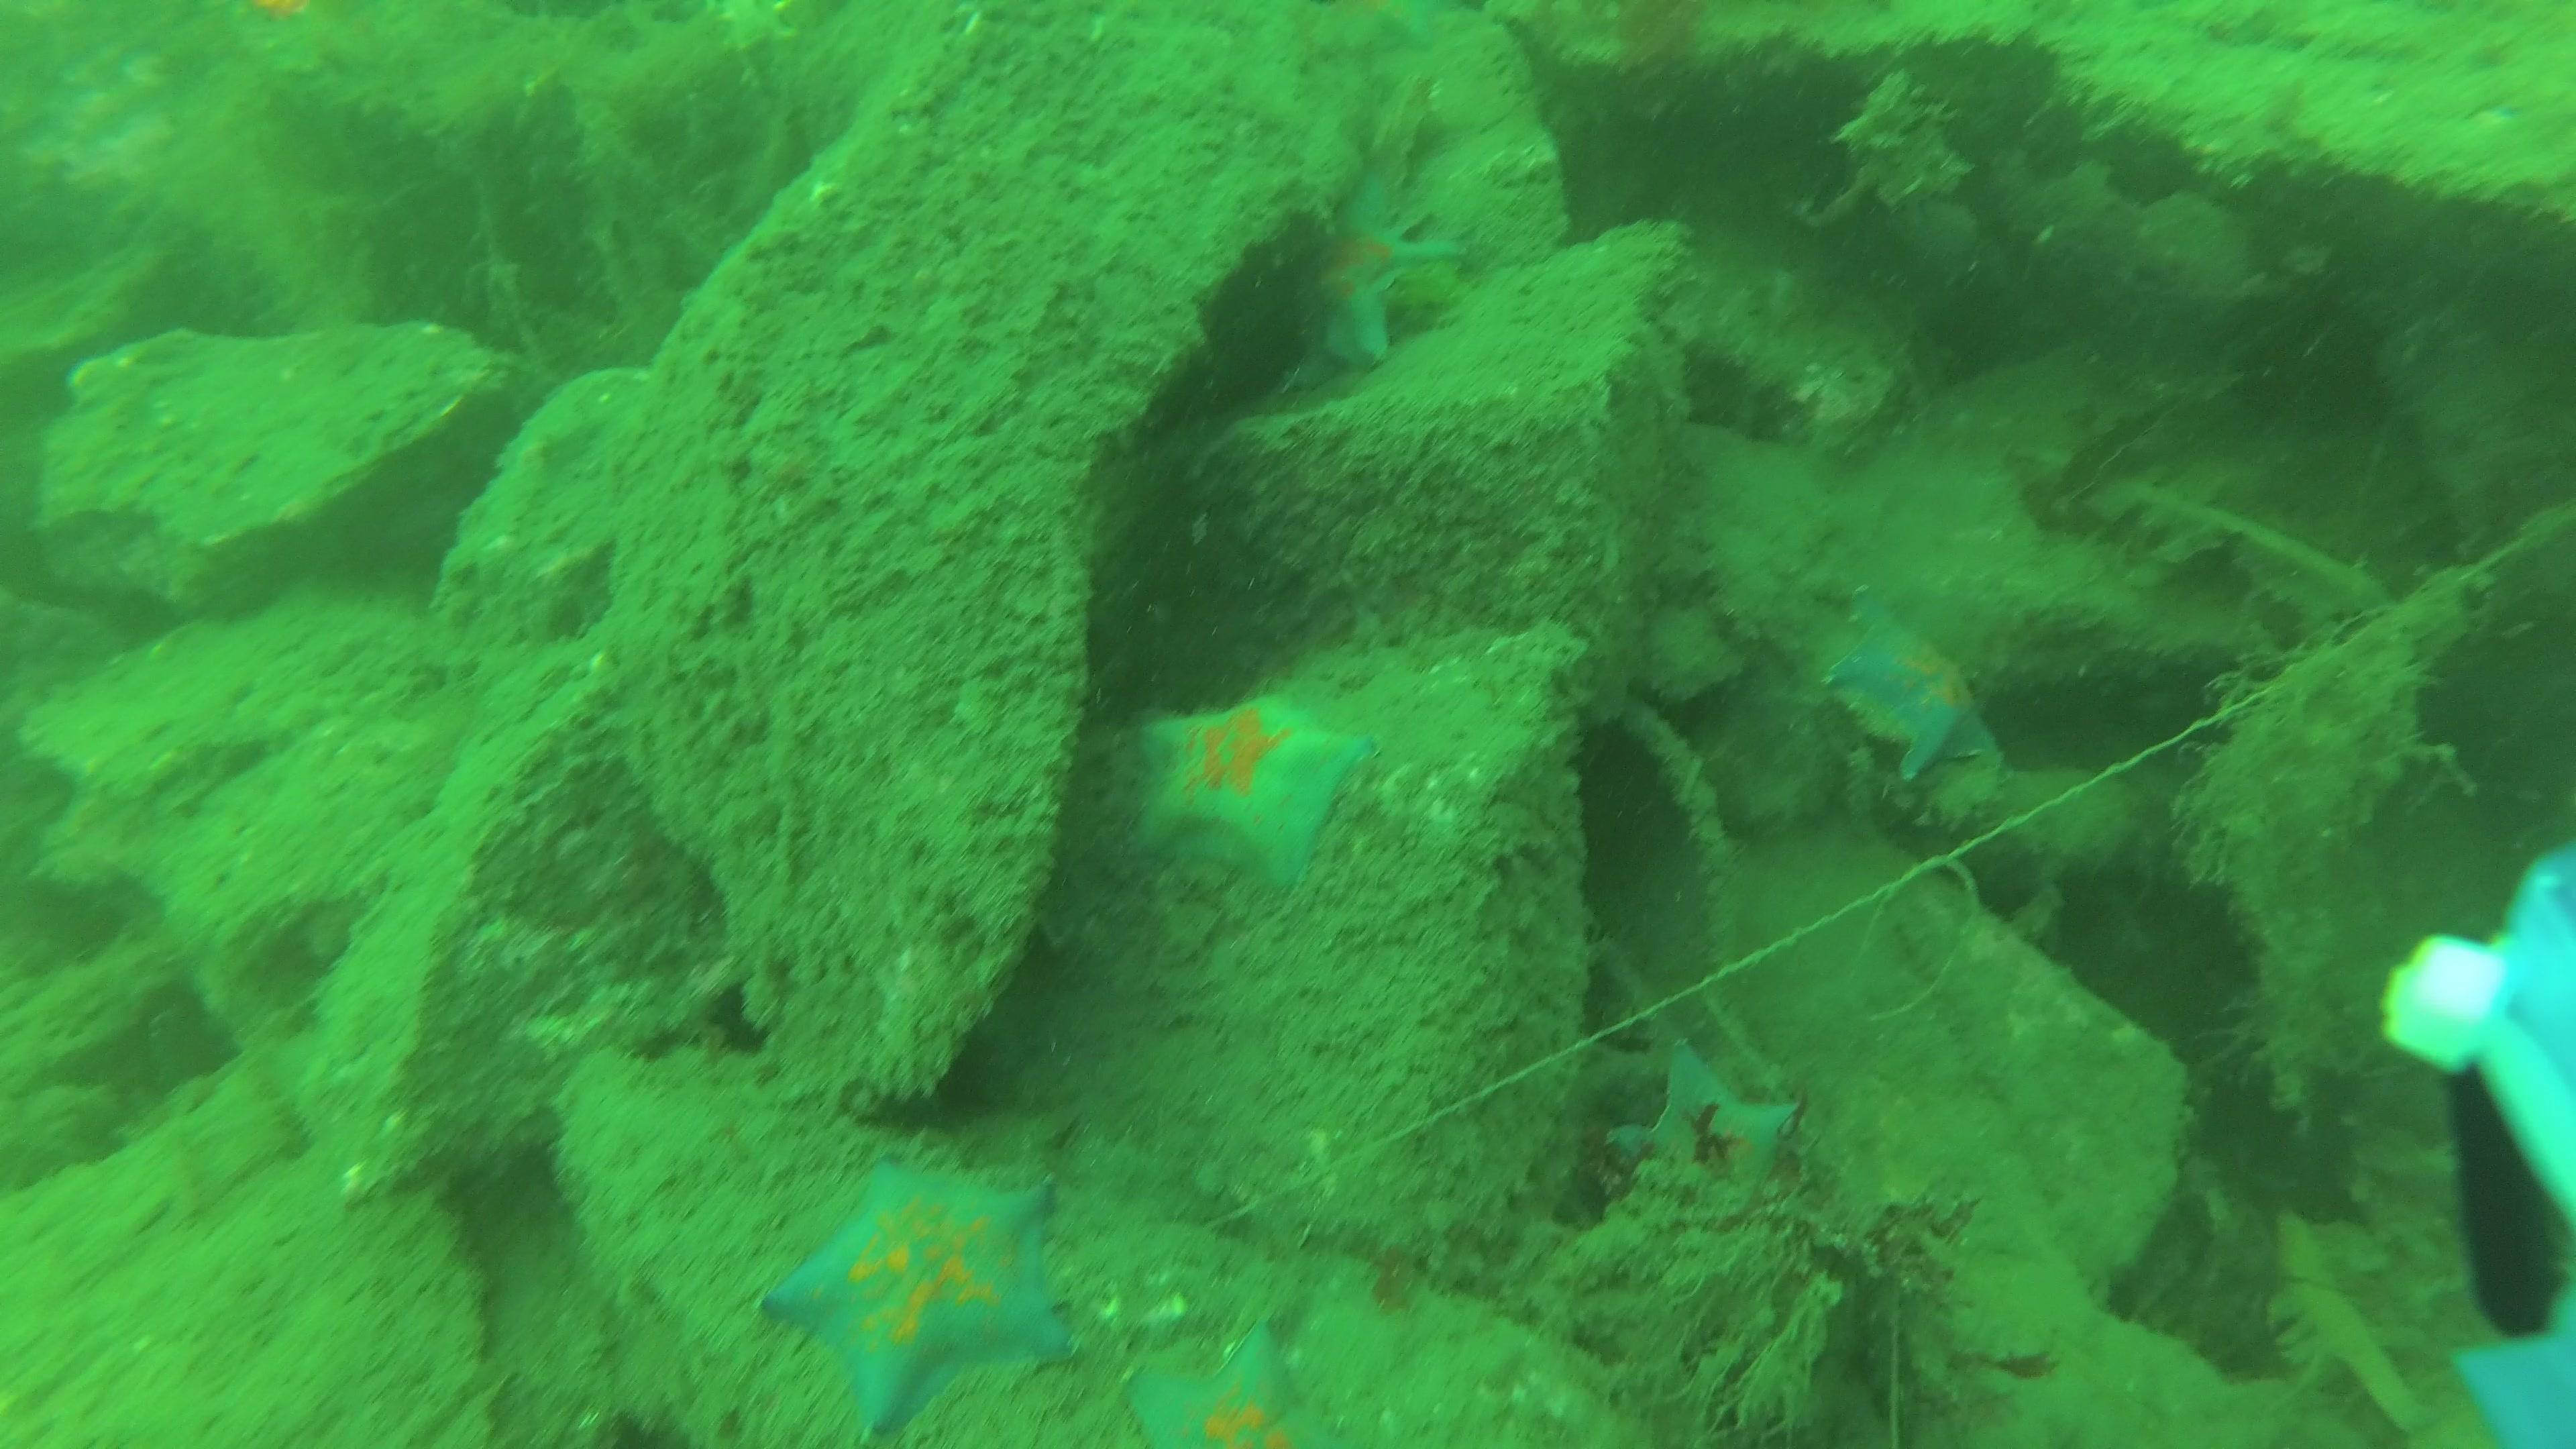starfish: (775, 1164, 1079, 1422), (1143, 694, 1362, 888), (1614, 1049, 1798, 1217), (1320, 172, 1460, 364), (1815, 630, 1999, 773), (1136, 1329, 1339, 1449)
